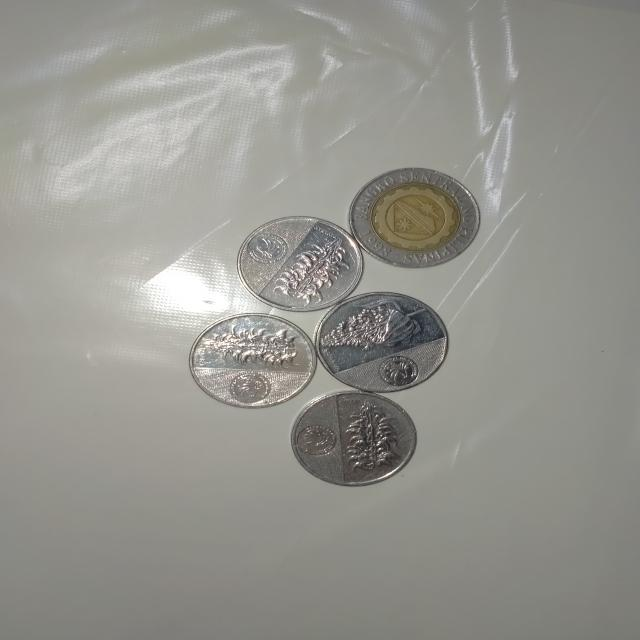10_New_Back: (320, 296, 432, 357)
10_Old_Back: (351, 168, 473, 266)
5_New_Back: (338, 403, 404, 477)
